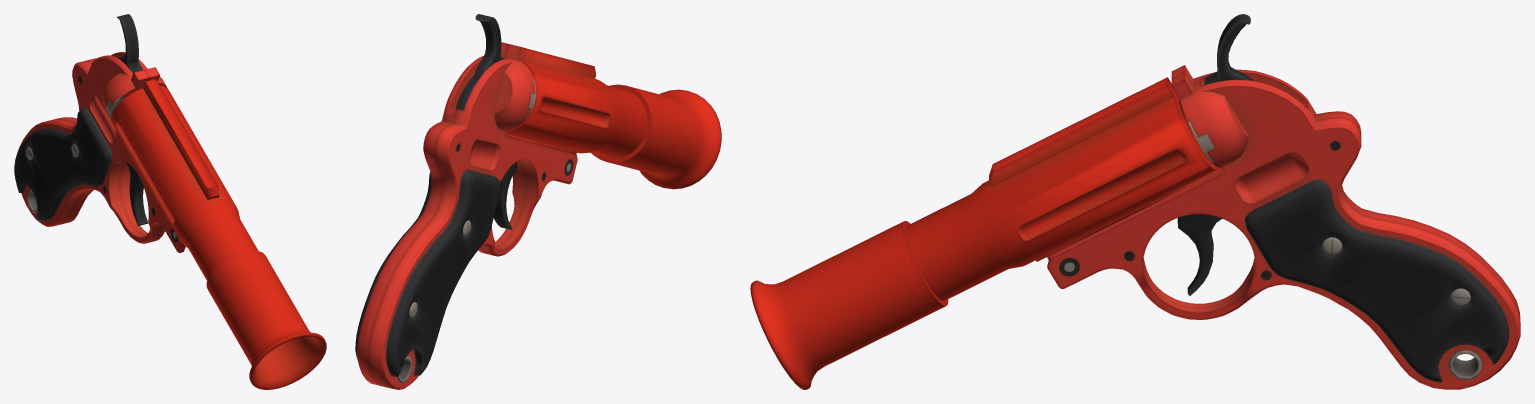
Rendered from flare_gun.glb.
The picture shows the model from 3 angles, left to right: view 1: azimuth 30°, elevation 25°; view 2: azimuth 150°, elevation 25°; view 3: azimuth 270°, elevation 25°; orthographic projection. The views are drawn at different scales.
Parts seen in each view (by area): view 1: flare_gun; view 2: flare_gun; view 3: flare_gun.
Boxes of the visible parts, x1,y1,x2,y2 form: flare_gun: (14, 14, 326, 389); flare_gun: (355, 14, 721, 389); flare_gun: (750, 14, 1520, 389).
Bounding box in the file's own units: 0.0391 × 0.1311 × 0.25.
1 material, 1 textured.
